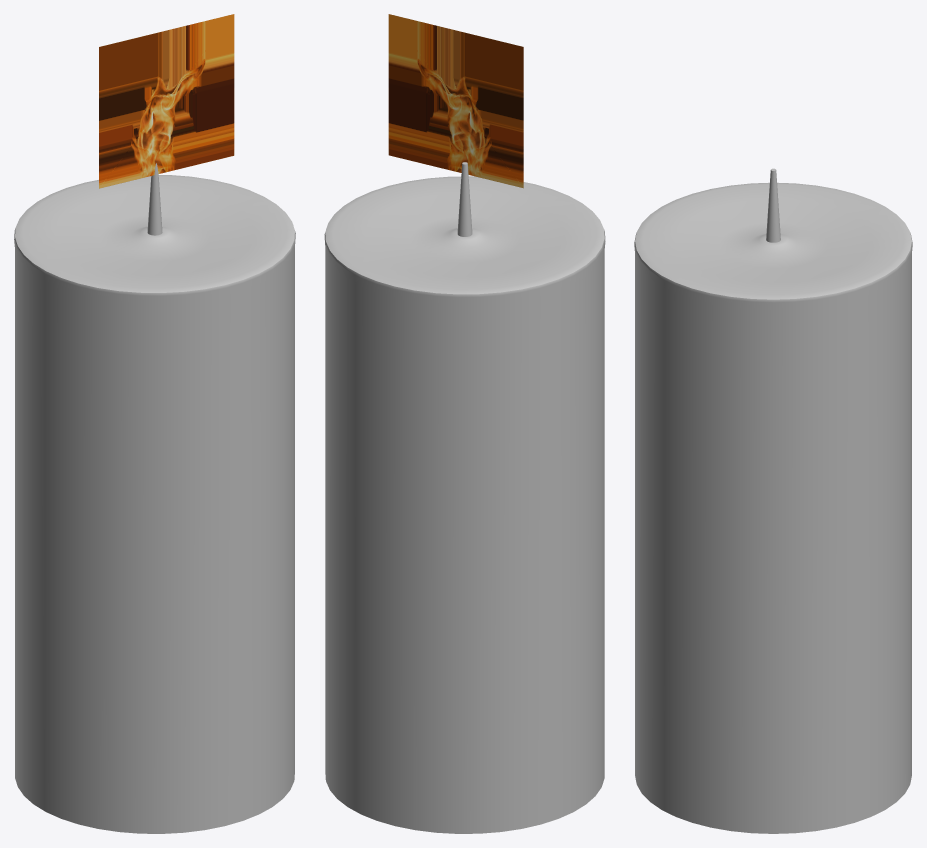
Rendered from objCandle.obj.
The picture shows the model from 3 angles, left to right: view 1: azimuth 30°, elevation 25°; view 2: azimuth 150°, elevation 25°; view 3: azimuth 270°, elevation 25°; orthographic projection.
Parts seen in each view (by area): view 1: candle1, candle1 fire; view 2: candle1, candle1 fire; view 3: candle1.
Boxes of the visible parts, box(x1,y1,x2,y2) form: candle1: box(14, 163, 295, 833); candle1 fire: box(99, 14, 234, 188); candle1: box(324, 162, 605, 833); candle1 fire: box(388, 14, 523, 188); candle1: box(634, 168, 912, 833).
Bounding box in the file's own units: 2.01 × 5.85 × 2.01.
